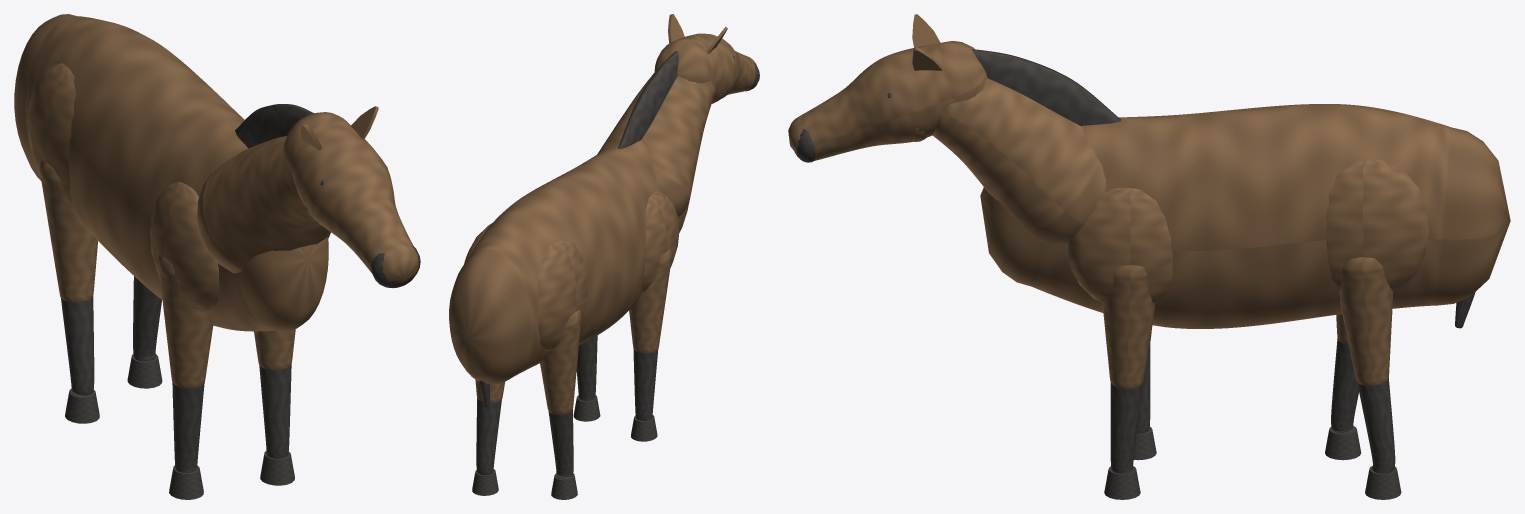
The model's file is farm-and-working-animals-hd-draught-horse-75ac8e1e__29172.glb.
The picture shows the model from 3 angles, left to right: view 1: azimuth 30°, elevation 25°; view 2: azimuth 150°, elevation 25°; view 3: azimuth 270°, elevation 25°; orthographic projection. The views are drawn at different scales.
Parts seen in each view (by area): view 1: draught-horse; view 2: draught-horse; view 3: draught-horse.
Boxes of the visible parts, <box> form: draught-horse: <box>14,14,420,499</box>; draught-horse: <box>449,14,759,499</box>; draught-horse: <box>788,14,1510,499</box>.
Bounding box in the file's own units: 0.711 × 2.19 × 3.24.
Materials: 2 (2 with a texture image).
